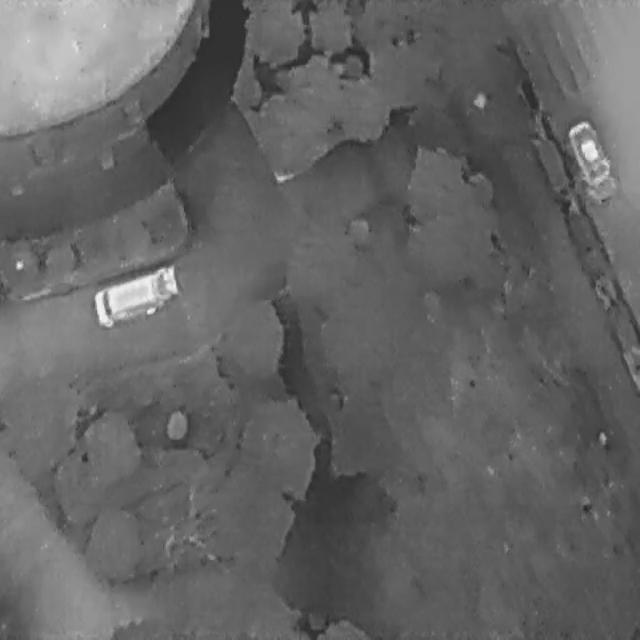Car: (89, 262, 180, 332), (566, 113, 621, 205)
